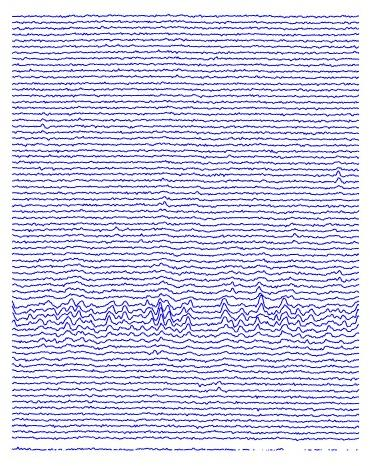defect: (218, 290, 307, 346), (25, 295, 93, 340), (146, 299, 193, 338), (102, 298, 128, 326), (330, 164, 345, 187)
